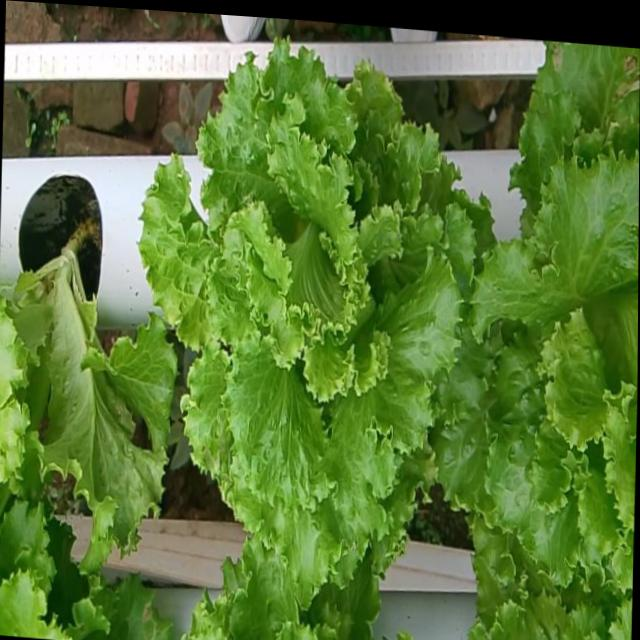Mature: (139, 38, 475, 581), (436, 142, 639, 581)
